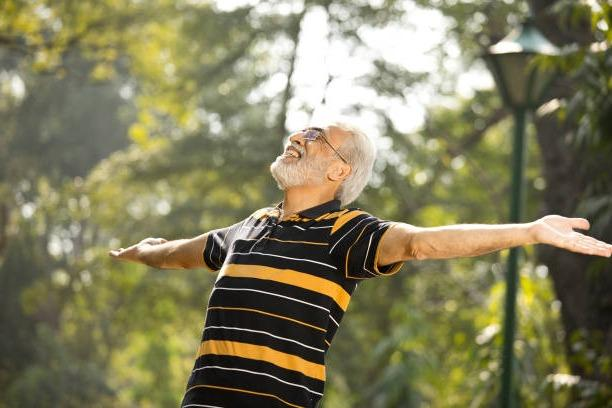Human: (99, 67, 601, 408)
